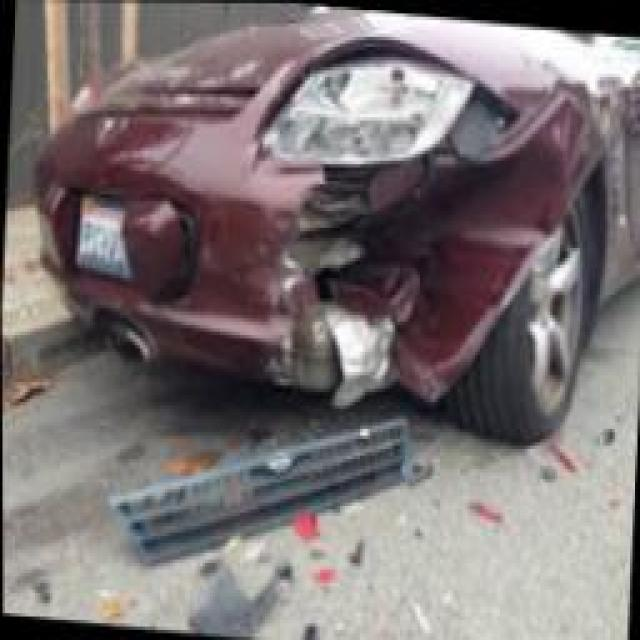Bumper: (227, 90, 594, 396)
